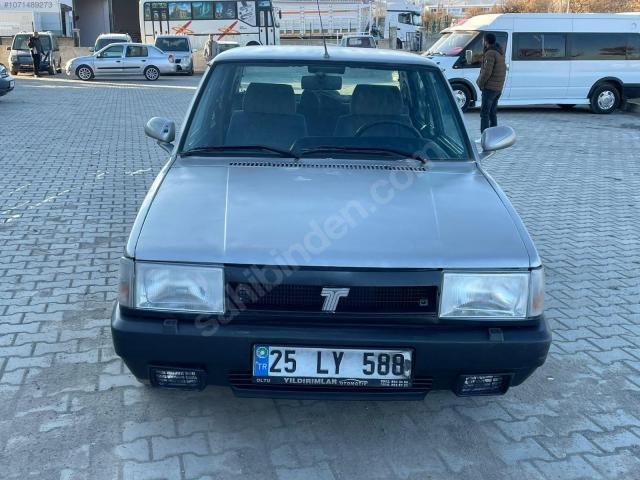plaka: (253, 345, 413, 388)
